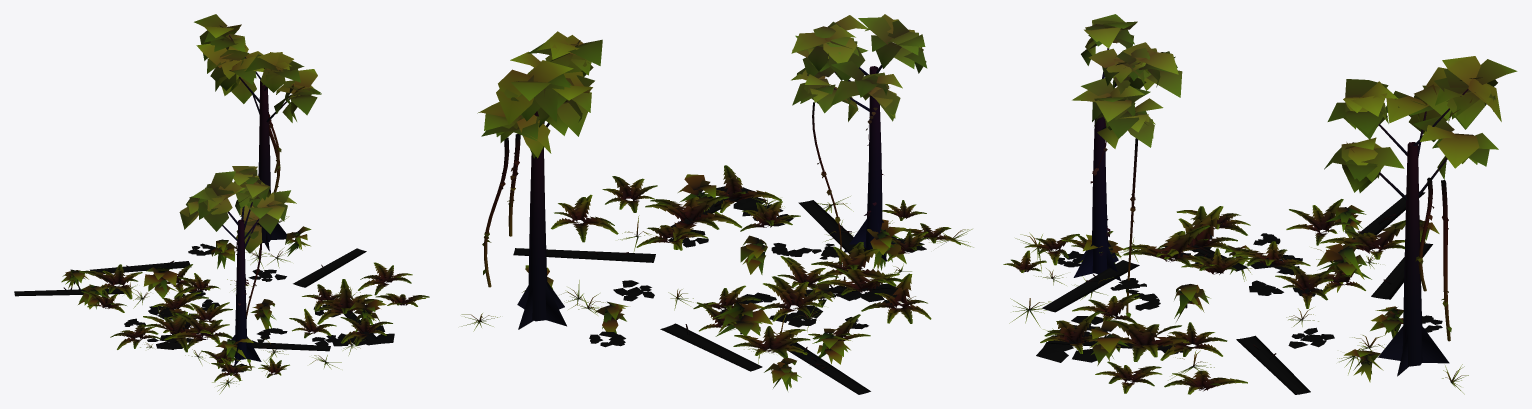
The model's file is patch_deadfall.glb.
3 views of the same model, side by side, from view 1: azimuth 30°, elevation 25°; view 2: azimuth 150°, elevation 25°; view 3: azimuth 270°, elevation 25° (orthographic). The views are drawn at different scales.
Parts seen in each view (by area): view 1: patch_deadfall; view 2: patch_deadfall; view 3: patch_deadfall.
Part boxes in pixels (x1,y1,x2,y2): patch_deadfall: (14,14,429,394); patch_deadfall: (461,14,973,394); patch_deadfall: (1003,14,1517,394).
Size of the model in its own units: 16.97 by 11.85 by 17.53.
Materials: 1 (1 with a texture image).
